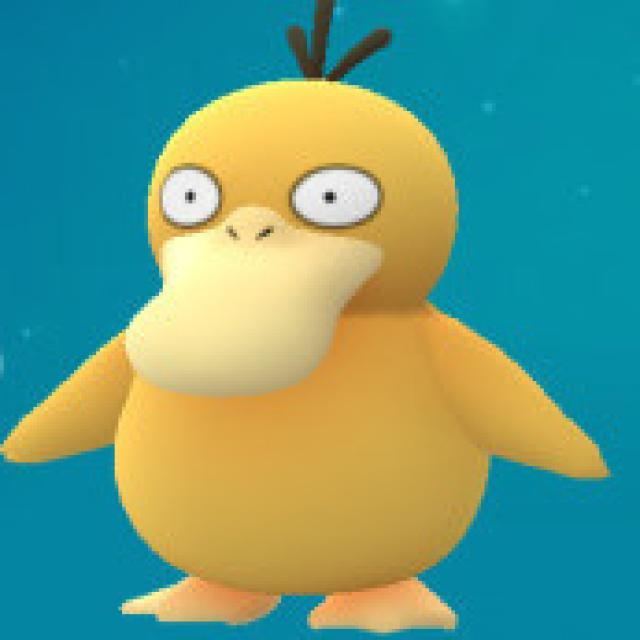Psyduck: (76, 47, 540, 633)
